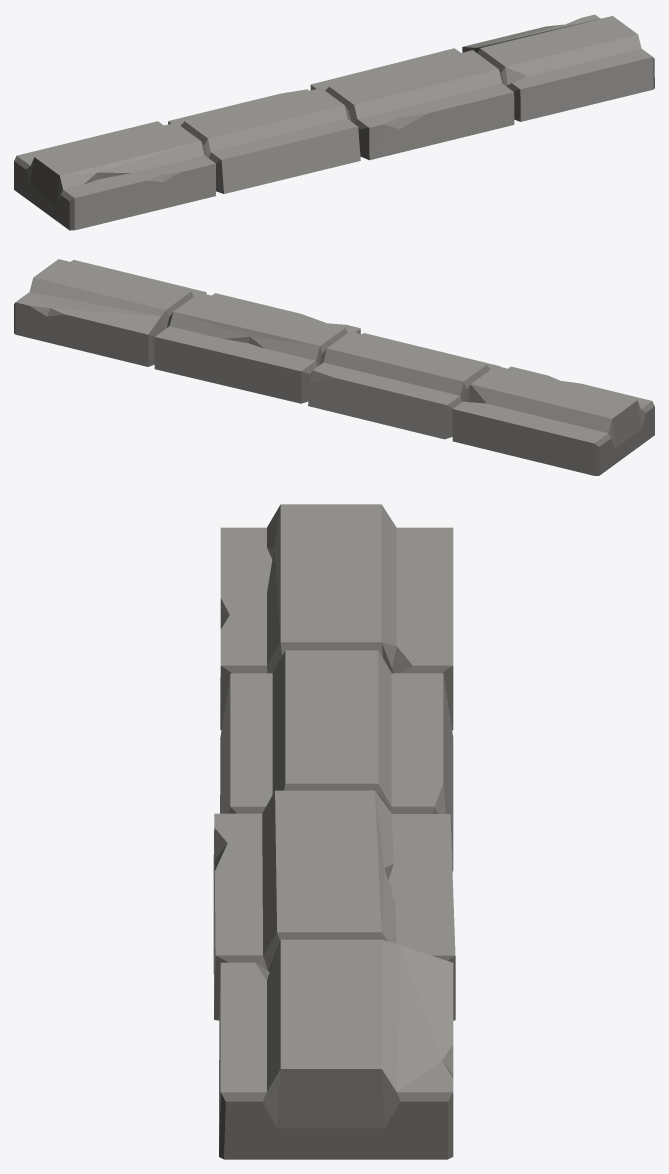
The model's file is ancient_SM_Bld_Wall_Large_Cap_01.gltf.
3 views of the same model, one above another, from view 1: azimuth 30°, elevation 25°; view 2: azimuth 150°, elevation 25°; view 3: azimuth 270°, elevation 25° (orthographic). The views are drawn at different scales.
Visible parts, largest first — view 1: SM_Bld_Wall_Large_Cap_01; view 2: SM_Bld_Wall_Large_Cap_01; view 3: SM_Bld_Wall_Large_Cap_01.
Part boxes in pixels (x1=…): SM_Bld_Wall_Large_Cap_01: x1=14, y1=14, x2=654, y2=230; SM_Bld_Wall_Large_Cap_01: x1=14, y1=259, x2=654, y2=475; SM_Bld_Wall_Large_Cap_01: x1=213, y1=504, x2=455, y2=1159.
Bounding box in the file's own units: 5.02 × 0.3606 × 0.9.
1 material, 1 textured.
